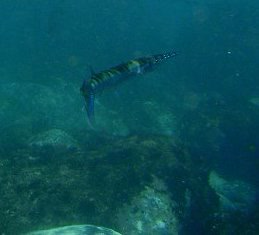sayori: (67, 43, 175, 117)
